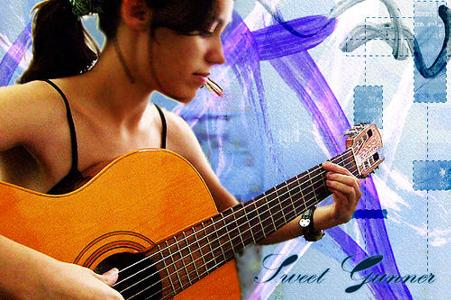person: (3, 3, 361, 300)
